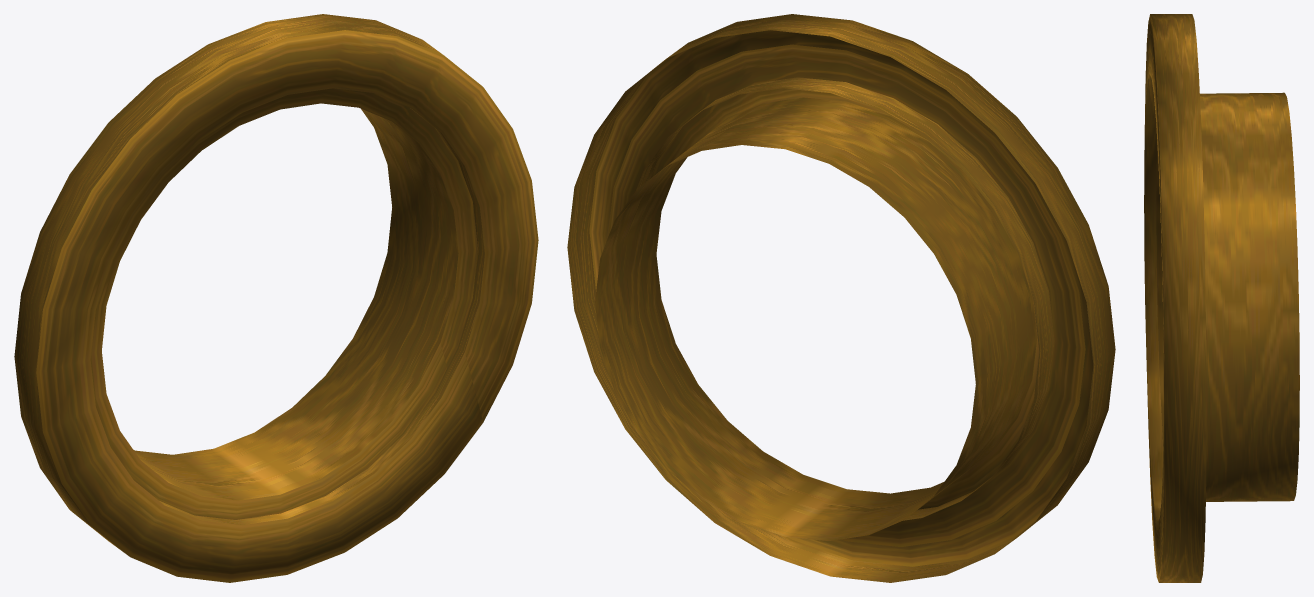
Rendered from HTOWN01_DOORFRAME.fbx.
The picture shows the model from 3 angles, left to right: view 1: azimuth 30°, elevation 25°; view 2: azimuth 150°, elevation 25°; view 3: azimuth 270°, elevation 25°; orthographic projection. The views are drawn at different scales.
Visible parts, largest first — view 1: HTOWN01_DOORFRAME; view 2: HTOWN01_DOORFRAME; view 3: HTOWN01_DOORFRAME.
Boxes of the visible parts, left/top/right/bottom form: HTOWN01_DOORFRAME: left=14, top=14, right=538, bottom=582; HTOWN01_DOORFRAME: left=567, top=14, right=1115, bottom=582; HTOWN01_DOORFRAME: left=1144, top=14, right=1299, bottom=582.
Size of the model in its own units: 19443 by 19454 by 5325.
1 material, 1 textured.
